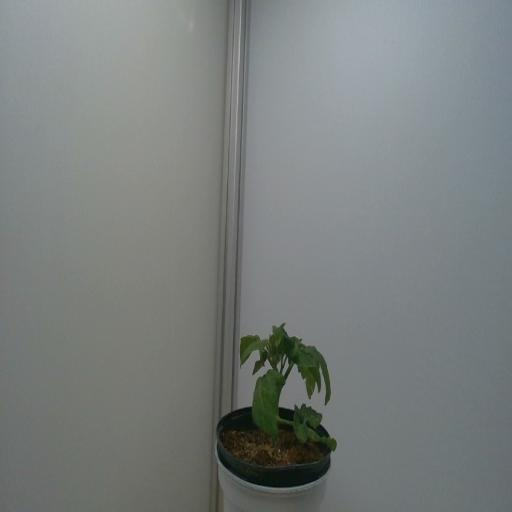Tomato-Leaves-Cupboard-: (249, 367, 284, 443), (309, 344, 341, 411), (237, 325, 269, 371), (307, 424, 340, 456), (296, 399, 324, 430), (288, 410, 308, 446), (273, 316, 290, 350), (252, 349, 271, 377), (286, 335, 306, 354), (302, 369, 316, 396)
